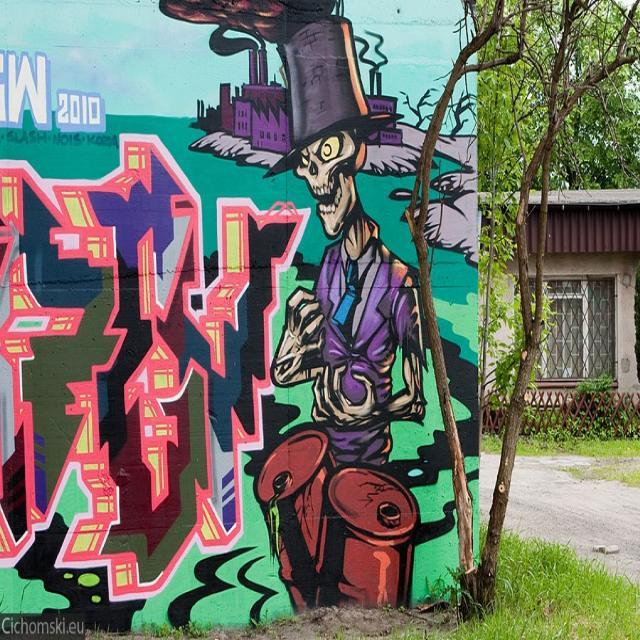-: (0, 132, 305, 606), (256, 11, 428, 612), (162, 0, 478, 266), (0, 52, 103, 132)
